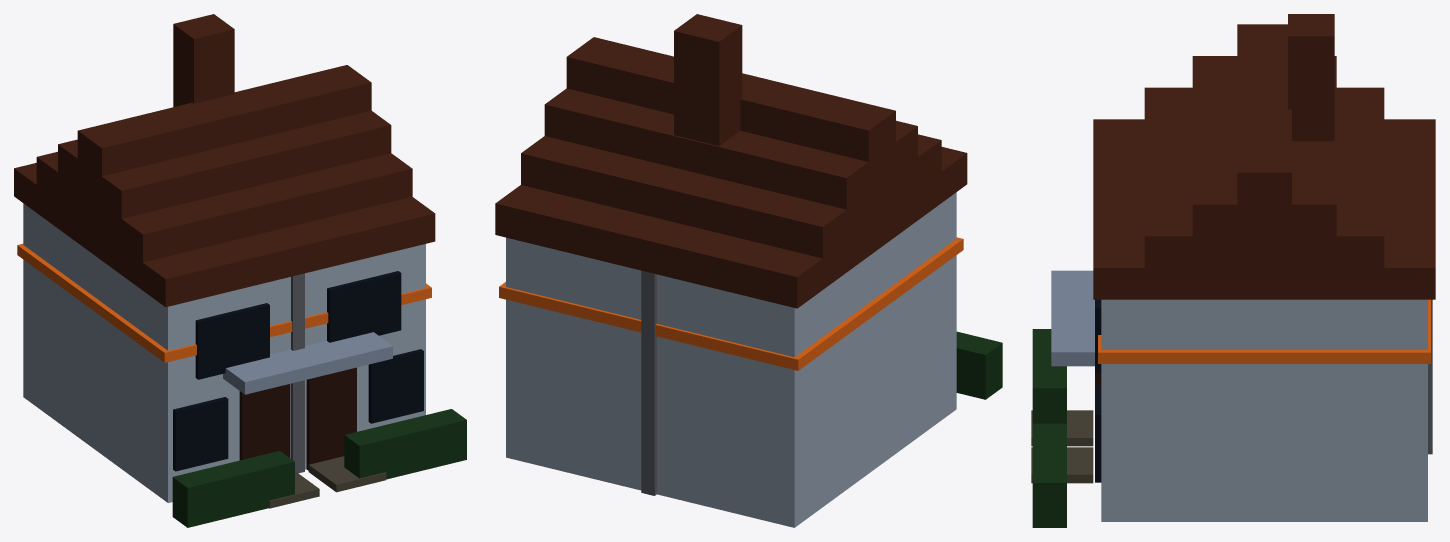
File: house4.obj
The picture shows the model from 3 angles, left to right: view 1: azimuth 30°, elevation 25°; view 2: azimuth 150°, elevation 25°; view 3: azimuth 270°, elevation 25°; orthographic projection. The views are drawn at different scales.
Parts seen in each view (by area): view 1: roofs, bodies, windows, garden-wall, doors, door-hood, shared-chimney, window-light, party-line, paths; view 2: bodies, roofs, shared-chimney, window-light, party-line, garden-wall; view 3: roofs, bodies, garden-wall, shared-chimney, window-light, door-hood, paths, windows, party-line.
Boxes of the visible parts, box(x1,y1,x2,y2) form: roofs: box(14, 65, 435, 307); bodies: box(23, 203, 425, 502); windows: box(173, 271, 423, 471); garden-wall: box(172, 409, 466, 527); doors: box(239, 367, 356, 470); door-hood: box(223, 332, 392, 394); shared-chimney: box(173, 14, 234, 106); window-light: box(17, 243, 431, 362); party-line: box(291, 273, 304, 473); paths: box(269, 456, 386, 508); bodies: box(506, 192, 956, 527); roofs: box(495, 37, 967, 308); shared-chimney: box(674, 14, 742, 145); window-light: box(499, 237, 963, 370); party-line: box(641, 270, 656, 495); garden-wall: box(956, 331, 1002, 399); roofs: box(1093, 24, 1435, 299); bodies: box(1101, 299, 1427, 521); garden-wall: box(1032, 329, 1066, 527); shared-chimney: box(1288, 14, 1334, 141); window-light: box(1098, 299, 1430, 363); door-hood: box(1051, 270, 1094, 366); paths: box(1031, 410, 1093, 483); windows: box(1095, 299, 1101, 482); party-line: box(1428, 299, 1432, 454).
Size of the model in its own units: 2.34 by 3.02 by 2.6.
